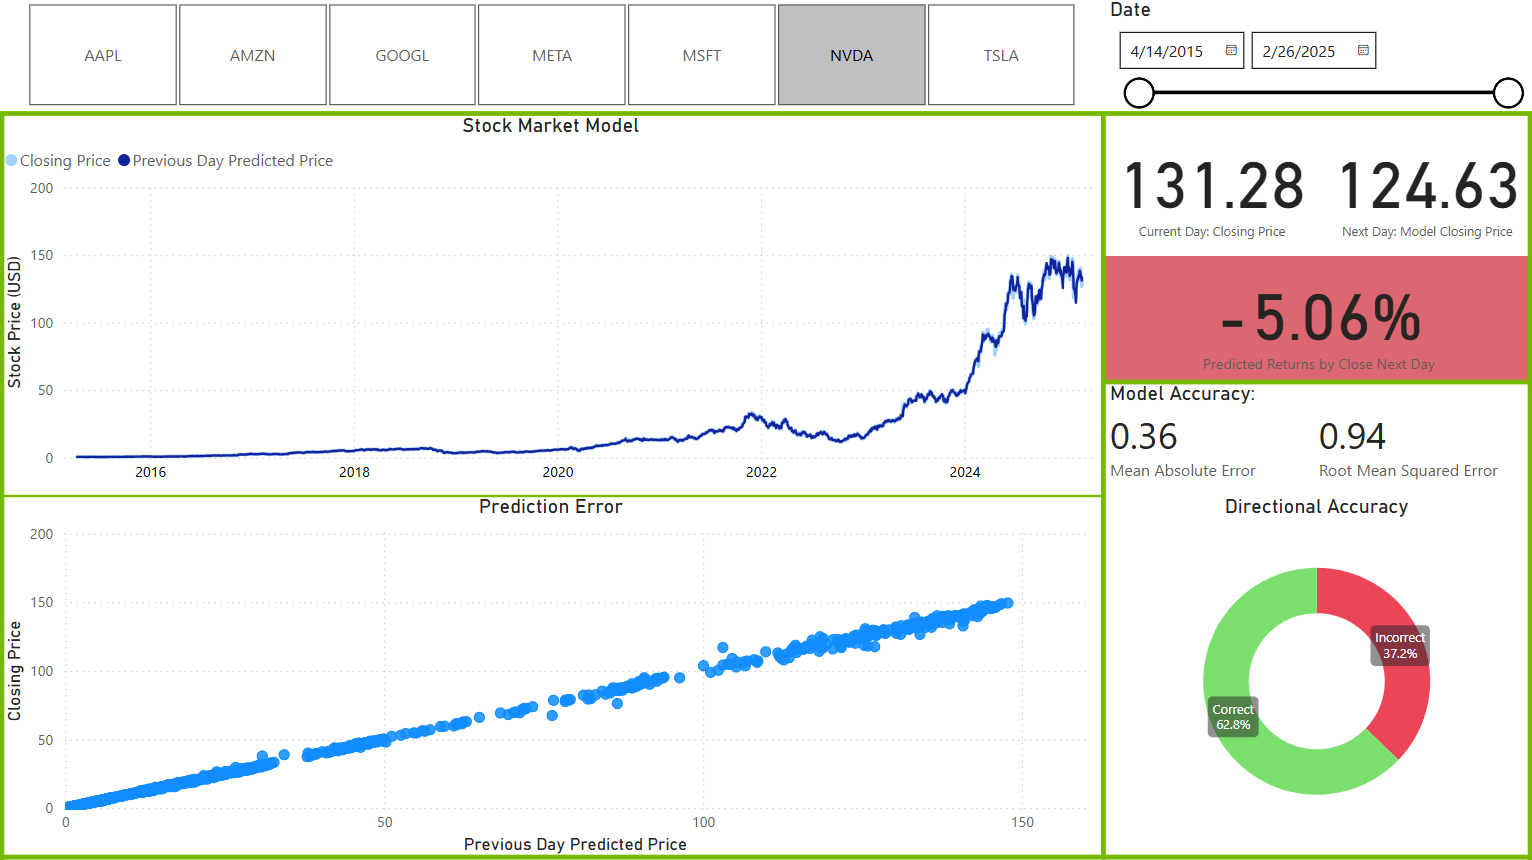

The page's visual inventory and layout, read from the dashboard file:
{"tool":"powerbi","page":{"name":"Model Summary","canvas":[1280,720],"ordinal":0},"visuals":[{"type":"shape","box":[70.6,97.5,850.6,622.5],"z":1000},{"type":"slicer","fields":{"Values":["public predicted_stock_prices.symbol"]},"box":[0,0,921.4,97.9],"z":2000},{"type":"lineChart","title":"Stock Market Model","fields":{"Category":["public predicted_stock_prices.date.Variation.Date Hierarchy.Year","public predicted_stock_prices.date.Variation.Date Hierarchy.Quarter","public predicted_stock_prices.date.Variation.Date Hierarchy.Month","public predicted_stock_prices.date.Variation.Date Hierarchy.Day"],"Y":["Sum(public predicted_stock_prices.Closing Price)","Sum(public predicted_stock_prices.Previous Day Predicted Price)"]},"box":[0,97.8,921.4,317.5],"z":3000},{"type":"card","fields":{"Values":["public predicted_stock_prices.Next Business Day Model Output % difference from Current Business Day Closing 2"]},"box":[921.4,216.9,357.9,104.2],"z":4000},{"type":"card","title":"Next Business Day Model Output:","fields":{"Values":["public predicted_stock_prices.Next Business Day Model Output"]},"box":[1101.4,104.2,178.6,108.4],"z":5000},{"type":"card","title":"Next Business Day Model Output:","fields":{"Values":["public predicted_stock_prices.Current Business Day Closing"]},"box":[921.4,104.2,180,108.4],"z":6000},{"type":"slicer","title":"Date","fields":{"Values":["public predicted_stock_prices.Date"]},"box":[921.8,0.9,357.3,103.6],"z":7000},{"type":"multiRowCard","title":"Model Accuracy:","fields":{"Values":["public model_eval.mae","public model_eval.rmse"]},"box":[921.4,321.1,357.9,94.3],"z":8000},{"type":"scatterChart","title":"Prediction Error","fields":{"Y":["public predicted_stock_prices.Closing Price"],"X":["public predicted_stock_prices.Previous Day Predicted Price"]},"box":[0,415.3,921.4,304.8],"z":9000},{"type":"donutChart","title":"Directional Accuracy","fields":{"Y":["Avg(public model_eval.Directional_Inaccuracy)","Avg(public model_eval.Directional_Accuracy_Percent)"]},"box":[920.8,415.4,356.2,293.1],"z":10000},{"type":"shape","box":[0,409.2,921.7,15],"z":11000},{"type":"shape","box":[921.2,291.2,358.8,60],"z":12000},{"type":"shape","box":[0,708.5,1280,11.5],"z":12001},{"type":"shape","box":[0,91.7,1280,12.5],"z":12002},{"type":"shape","box":[914.6,97.7,12.3,622.3],"z":12003},{"type":"shape","box":[1267.5,97.5,12.5,622.5],"z":12004},{"type":"shape","box":[0,97.5,12.5,622.5],"z":12005}]}

Visuals, with their boxes in screenshot pixels (x1, y1, x2, y2), scaled from the page's 1280x720 canvas onto the 1532x860 screenshot:
shape: (84, 116, 1103, 859)
slicer - public predicted_stock_prices.symbol: (0, 0, 1103, 117)
"Stock Market Model" lineChart: (0, 117, 1103, 496)
card - public predicted_stock_prices.Next Business Day Model Output % difference from Current Business Day Closing 2: (1103, 259, 1531, 384)
"Next Business Day Model Output:" card: (1318, 124, 1531, 254)
"Next Business Day Model Output:" card: (1103, 124, 1318, 254)
"Date" slicer: (1103, 1, 1531, 125)
"Model Accuracy:" multiRowCard: (1103, 384, 1531, 496)
"Prediction Error" scatterChart: (0, 496, 1103, 859)
"Directional Accuracy" donutChart: (1102, 496, 1528, 846)
shape: (0, 489, 1103, 507)
shape: (1103, 348, 1531, 419)
shape: (0, 846, 1531, 859)
shape: (0, 110, 1531, 124)
shape: (1095, 117, 1109, 859)
shape: (1517, 116, 1531, 859)
shape: (0, 116, 15, 859)
